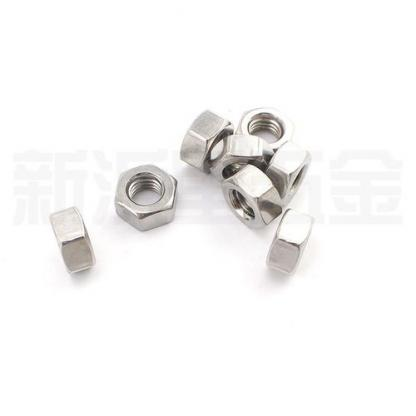FOD: (114, 164, 180, 231), (220, 160, 282, 228), (178, 107, 233, 178), (44, 203, 96, 278), (207, 131, 274, 186), (266, 206, 317, 277), (266, 138, 313, 205), (237, 103, 293, 152)
